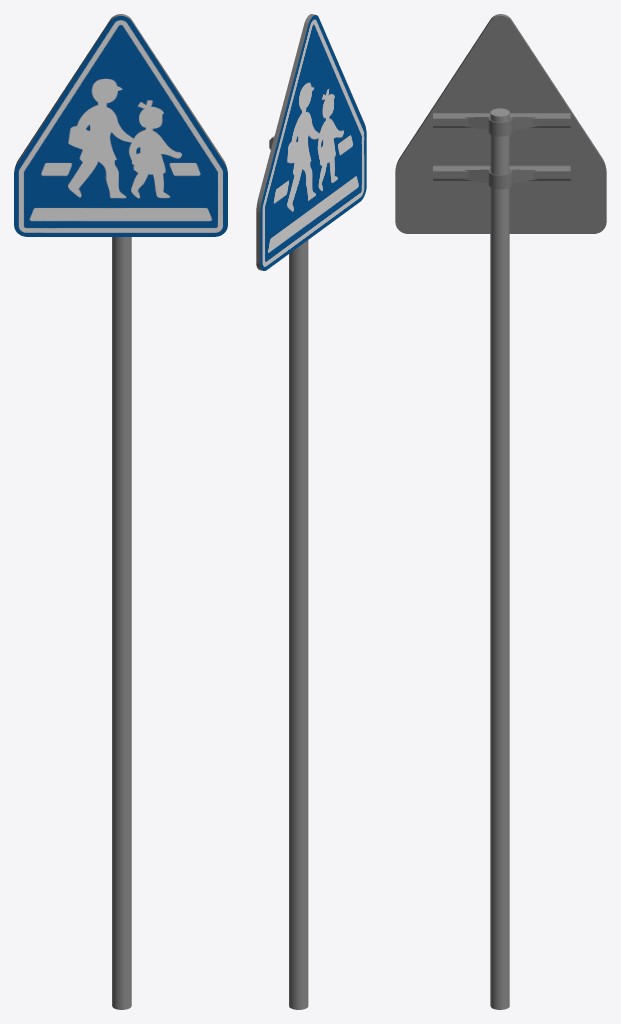
The picture shows the model from 3 angles, left to right: view 1: azimuth 90°, elevation 25°; view 2: azimuth 150°, elevation 25°; view 3: azimuth 270°, elevation 25°; orthographic projection.
Parts seen in each view (by area): view 1: 016, Prop; view 2: 016, Prop; view 3: 016, Prop.
Part boxes in pixels (x1,y1,x2,y2): 016: [14, 14, 227, 236]; Prop: [50, 112, 131, 1009]; 016: [256, 14, 366, 270]; Prop: [269, 136, 308, 1009]; 016: [395, 14, 606, 233]; Prop: [433, 108, 570, 1009].
Size of the model in its own units: 6.76 by 259 by 50.4.
